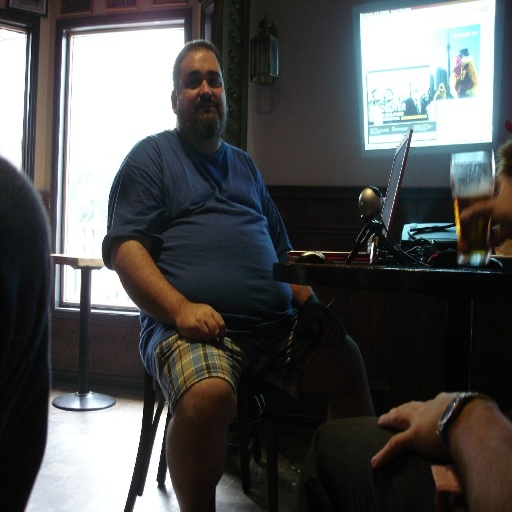hand: (378, 389, 485, 483), (174, 299, 228, 347), (303, 301, 348, 346)
